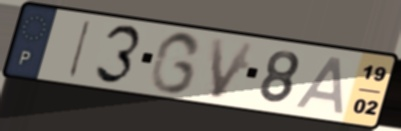3: (90, 23, 145, 86)
8: (258, 49, 302, 105)
A: (292, 54, 348, 117)
G: (147, 30, 205, 96)
I: (65, 18, 95, 80)
V: (208, 35, 259, 101)
